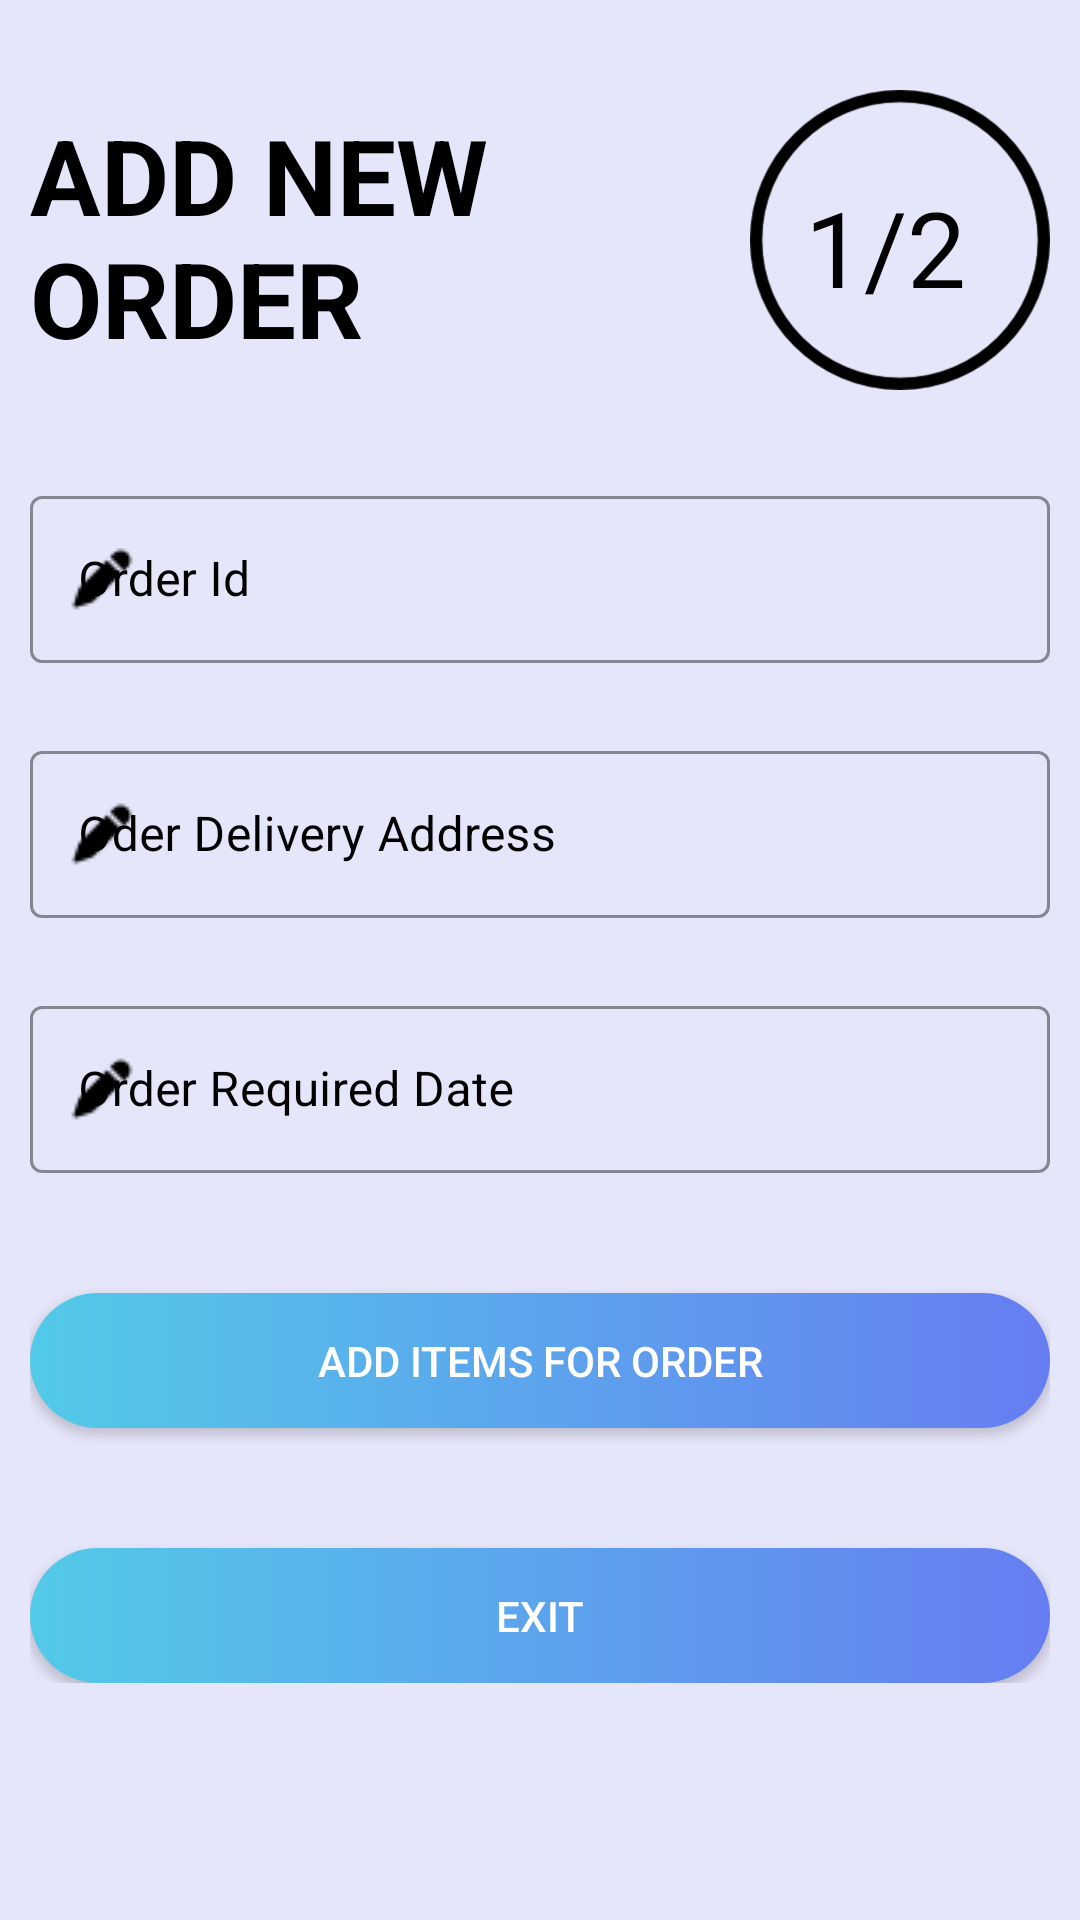

Icon click points for this 1080*1920 phone screenshot, format (x,y):
circle: (900,240)
